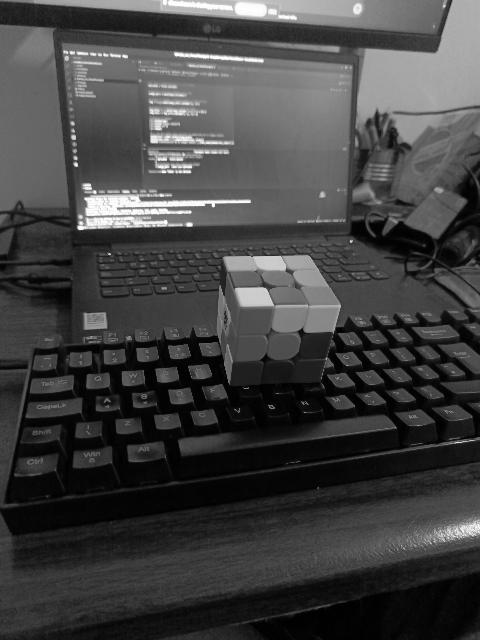rubik: (215, 252, 341, 386)
